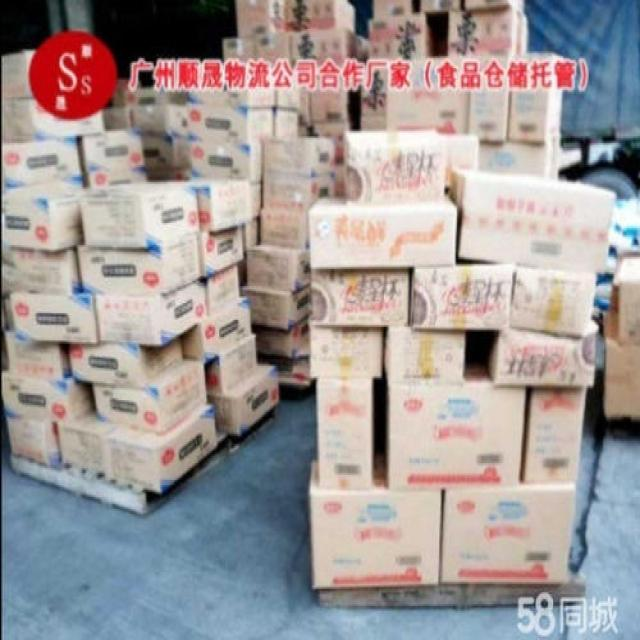box: (387, 366, 526, 495), (310, 456, 440, 591), (449, 170, 616, 274), (440, 483, 577, 582), (310, 194, 460, 269), (104, 405, 218, 492), (79, 179, 200, 250), (93, 276, 210, 349), (92, 359, 207, 432), (343, 128, 447, 208), (76, 235, 198, 298), (486, 320, 599, 388), (411, 264, 516, 330), (388, 58, 475, 134), (315, 378, 374, 490), (524, 386, 588, 485), (70, 334, 183, 385), (509, 271, 596, 337), (4, 182, 83, 254), (310, 269, 408, 327), (0, 369, 95, 427), (0, 136, 83, 199), (206, 364, 278, 436), (507, 54, 566, 141), (179, 296, 252, 361), (0, 97, 106, 141), (383, 329, 465, 385), (10, 294, 100, 344), (308, 325, 381, 381), (603, 315, 640, 420), (468, 58, 512, 141), (58, 414, 116, 475), (188, 136, 264, 182), (9, 247, 83, 294), (186, 104, 274, 143), (205, 332, 259, 395), (447, 12, 517, 60), (5, 332, 72, 380), (241, 284, 310, 330), (79, 128, 146, 175), (197, 180, 251, 237), (187, 75, 275, 109), (265, 138, 334, 180), (291, 26, 360, 68), (5, 417, 63, 466), (247, 245, 308, 291), (252, 313, 311, 357), (265, 174, 335, 211), (479, 141, 552, 175), (197, 226, 244, 276), (440, 131, 479, 189), (308, 66, 349, 121), (285, 0, 355, 32), (390, 14, 433, 65), (616, 257, 640, 346), (140, 128, 188, 170), (207, 262, 242, 318), (361, 66, 390, 129), (257, 352, 310, 386), (260, 213, 308, 250), (237, 0, 285, 37), (132, 104, 187, 136), (0, 49, 35, 99), (87, 169, 148, 189), (132, 85, 187, 106), (369, 17, 390, 65), (463, 0, 525, 15), (274, 109, 300, 138), (374, 0, 412, 19), (106, 109, 134, 131), (517, 12, 530, 58), (420, 0, 461, 12)
